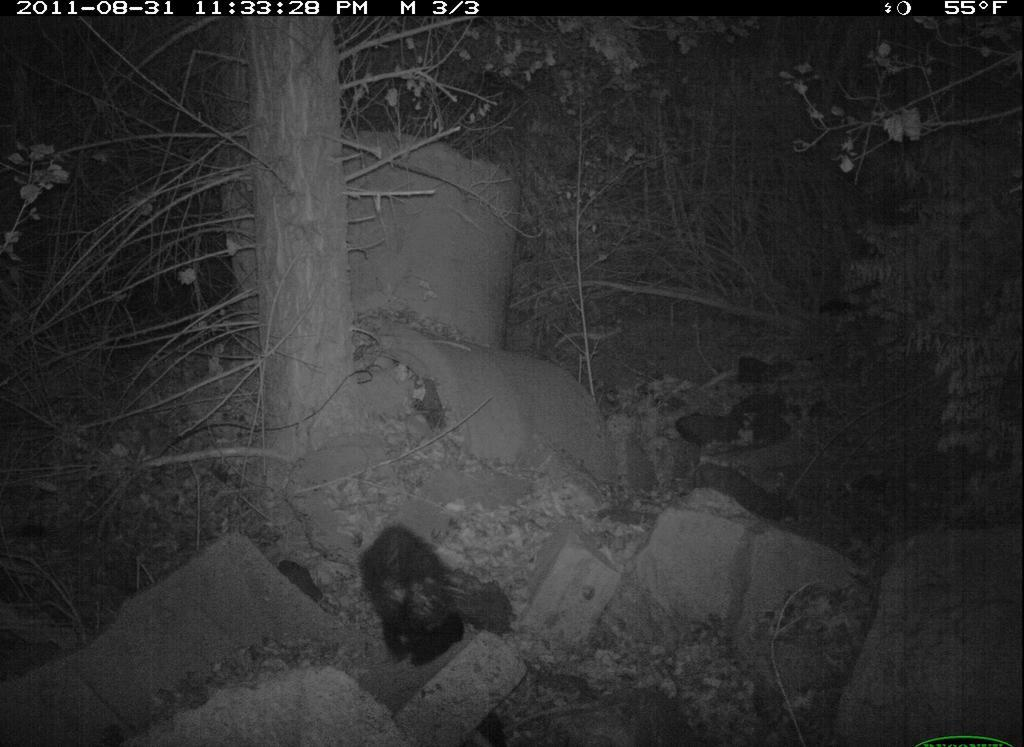skunk: (353, 523, 519, 666)
